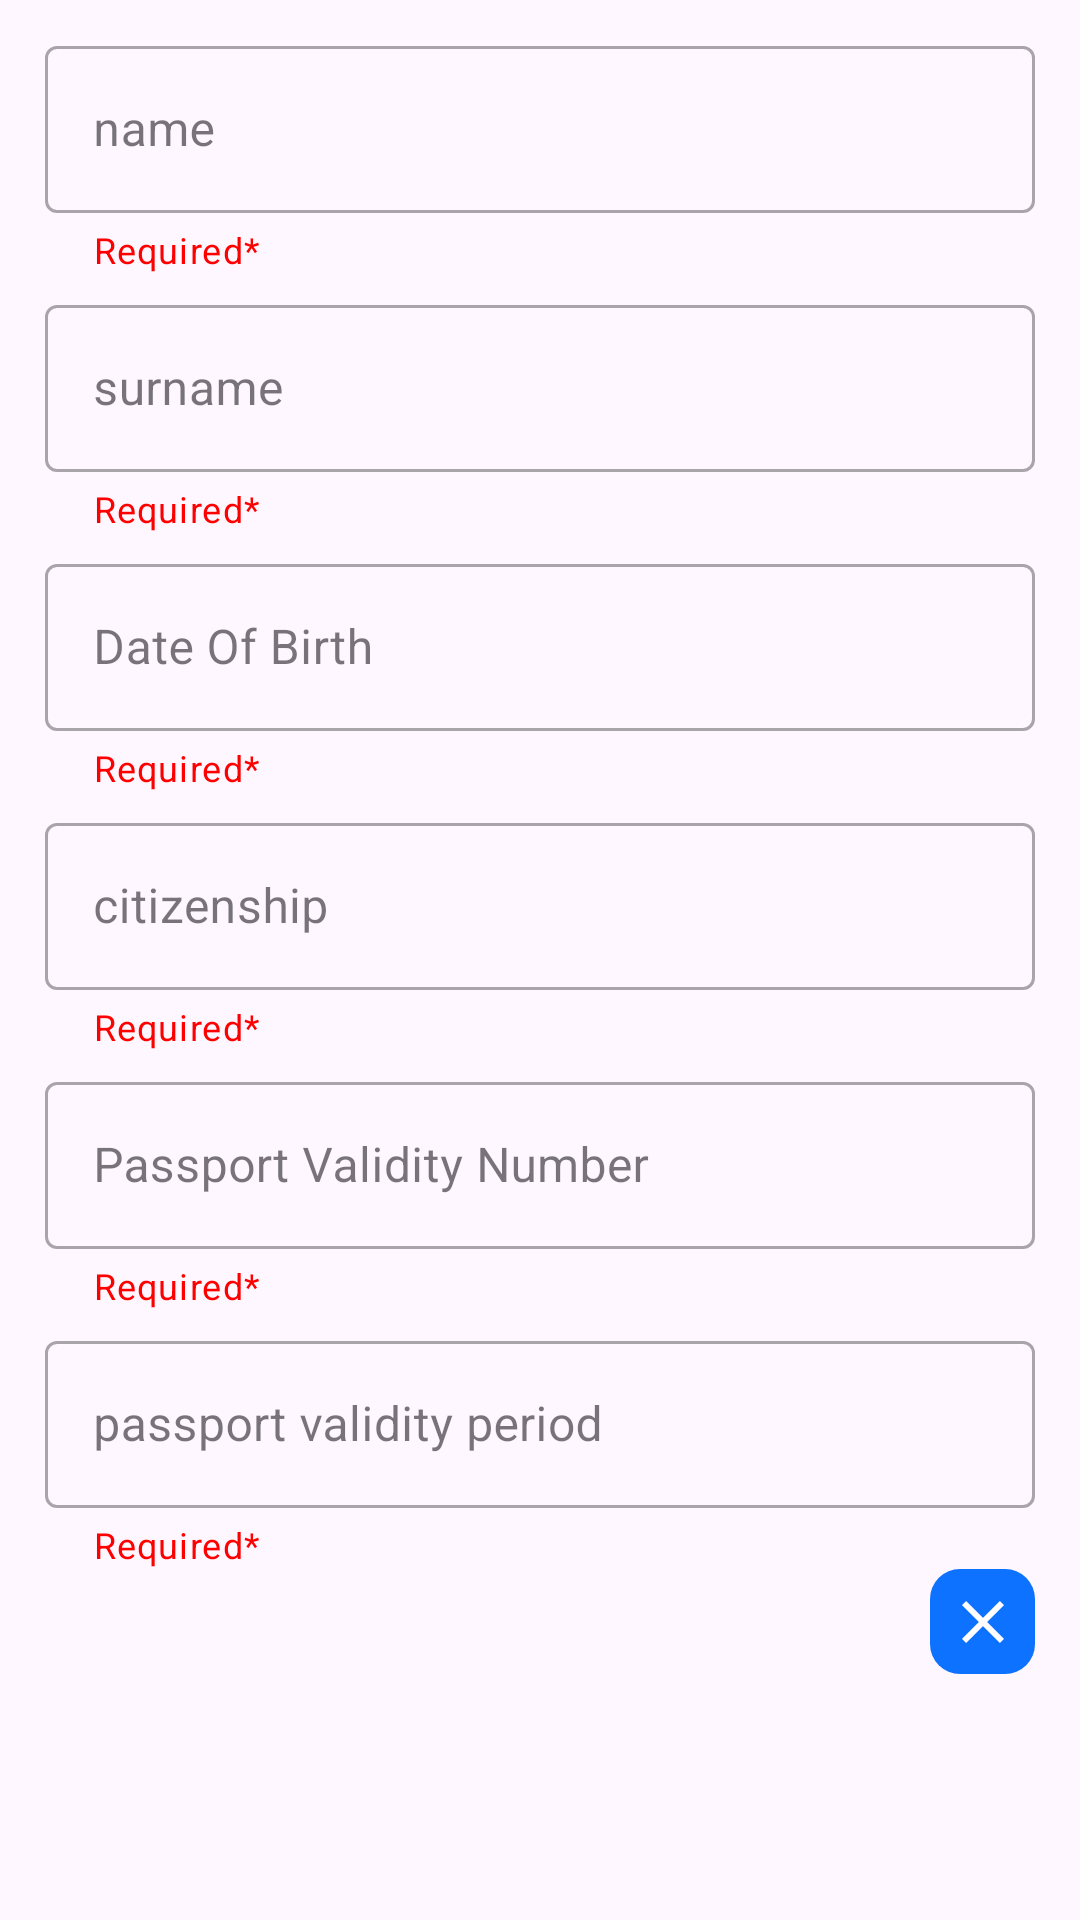

Screen size 1080 x 1920. Icon name, then its center in pixels as [x,y]:
clear: [982,1621]
